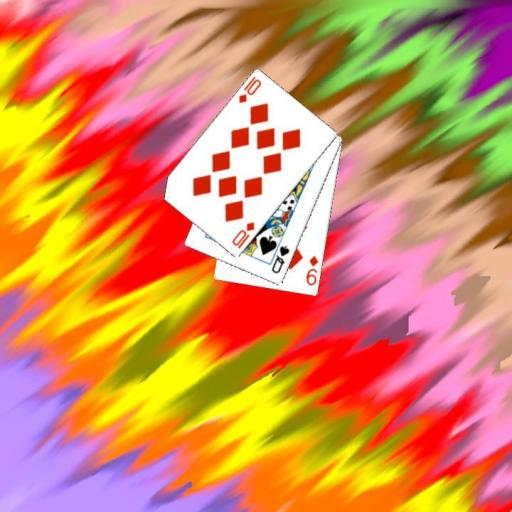10D: (235, 73, 263, 105), (229, 219, 256, 250)
9D: (303, 253, 320, 287)
QS: (268, 243, 291, 275)
